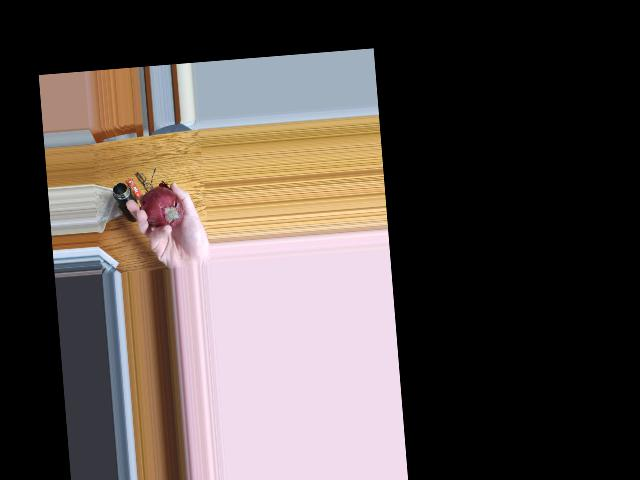onion: (141, 185, 183, 225)
